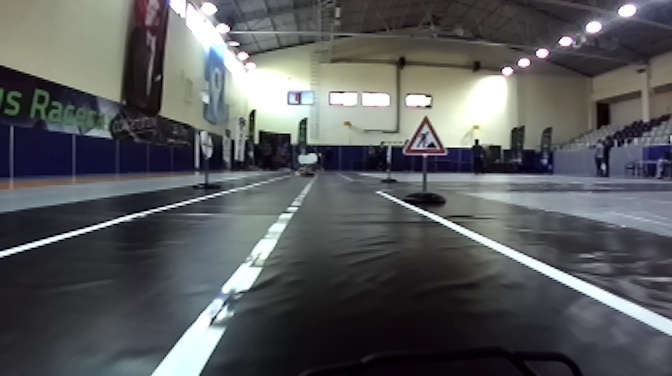yol_yapimi: (394, 113, 451, 156)
